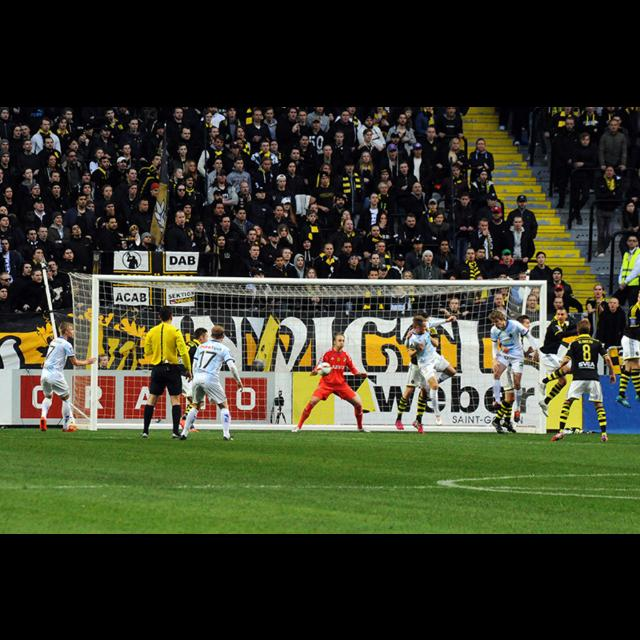Football: (314, 360, 332, 376)
